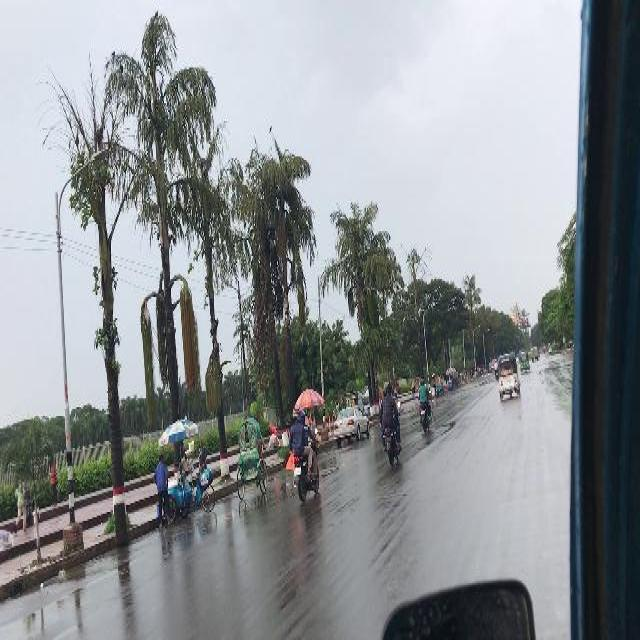car: (332, 404, 370, 446)
motorbike: (288, 406, 320, 504), (378, 382, 402, 468), (417, 377, 433, 434), (492, 357, 498, 379)
pickup: (530, 344, 538, 360)
rickshaw: (236, 414, 268, 500)
three wheelers -CNG-: (496, 350, 520, 400), (519, 350, 529, 372)
